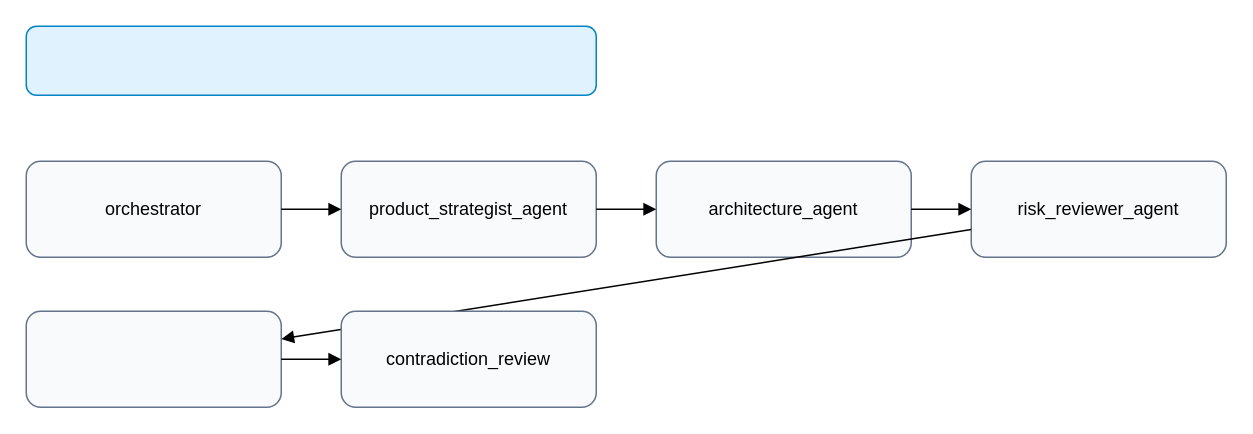
The diagram is 1253 pixels wide and 434 high, and some of its shapes have lost their labels. Each missing label, with the centre of its shape:
synthesis: (x=153, y=358)
V4.4 Parallel Deliberation: (x=310, y=60)
